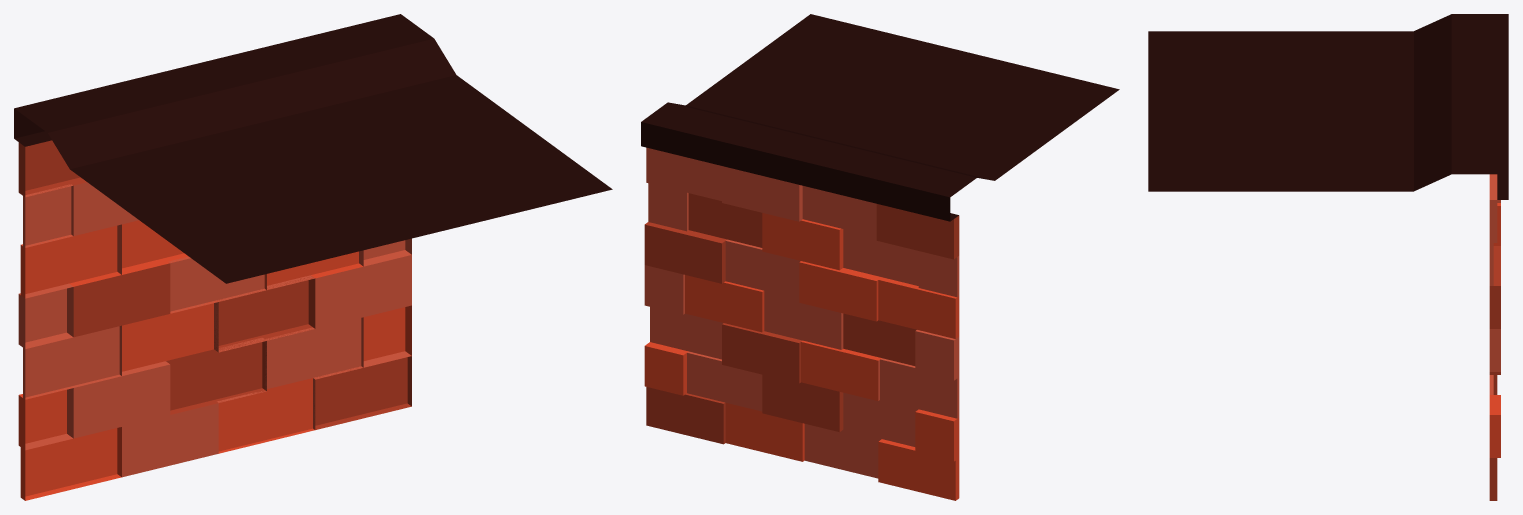
Rendered from Straight_Edge_Wall_Roof_Outer_Corner.obj.
3 views of the same model, side by side, from view 1: azimuth 30°, elevation 25°; view 2: azimuth 150°, elevation 25°; view 3: azimuth 270°, elevation 25° (orthographic). The views are drawn at different scales.
Parts seen in each view (by area): view 1: Straight_Edge_Wall_Roof_Outer_Corner; view 2: Straight_Edge_Wall_Roof_Outer_Corner; view 3: Straight_Edge_Wall_Roof_Outer_Corner.
Boxes of the visible parts, bbox=[...] form: Straight_Edge_Wall_Roof_Outer_Corner: bbox=[14, 14, 612, 500]; Straight_Edge_Wall_Roof_Outer_Corner: bbox=[641, 14, 1119, 500]; Straight_Edge_Wall_Roof_Outer_Corner: bbox=[1148, 14, 1508, 500].
Size of the model in its own units: 1 by 0.95 by 0.95.
